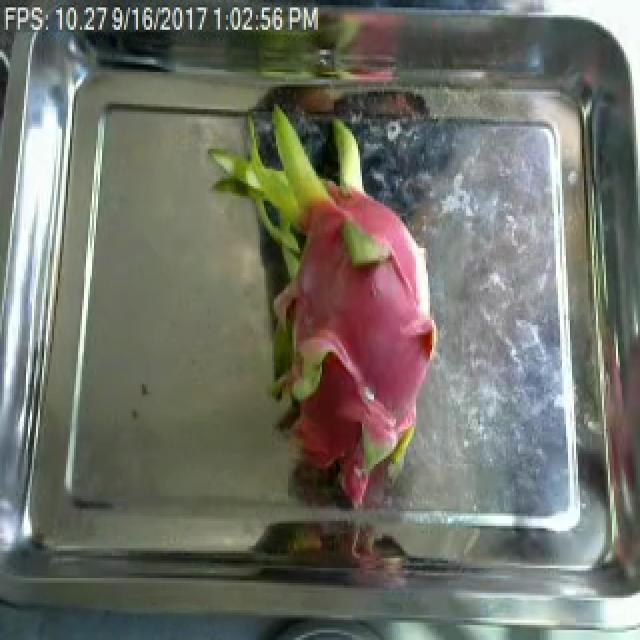fruit: (200, 90, 446, 508)
